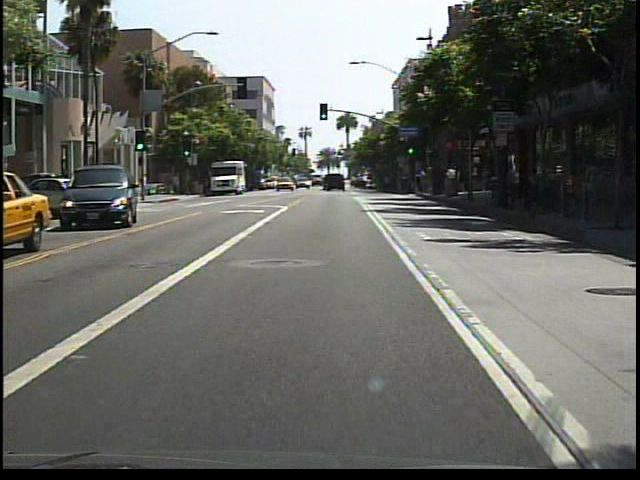person: (170, 169, 184, 196), (163, 172, 175, 195)
